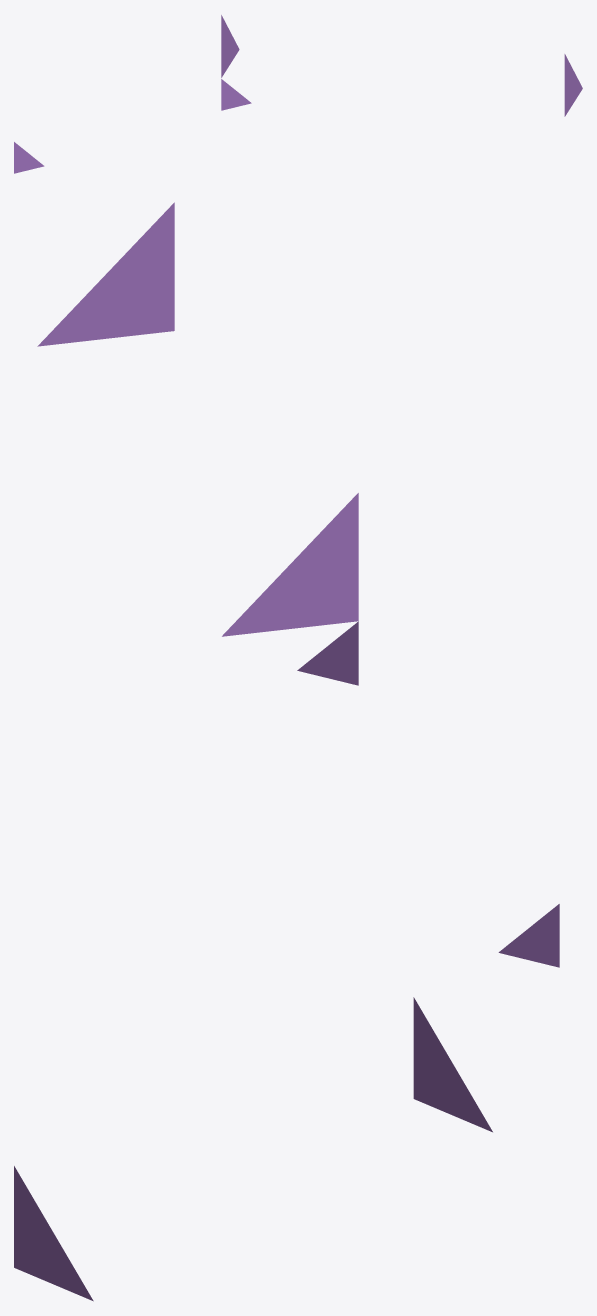
Rendered from hinged_box.gltf.
3 renders of one model, top to bottom at view 1: azimuth 30°, elevation 25°; view 2: azimuth 150°, elevation 25°; view 3: azimuth 270°, elevation 25°, orthographic. The views are drawn at different scales.
Parts seen in each view (by area): view 1: Flap (×2), Lid, Base; view 2: Flap (×2), Lid, Base; view 3: Lid, Flap.
Part boxes in pixels (x1,y1,x2,y2): Flap (×2): (14, 54, 582, 173); Lid: (221, 15, 239, 77); Base: (221, 79, 251, 110); Flap (×2): (37, 202, 559, 967); Lid: (222, 493, 358, 636); Base: (297, 621, 358, 685); Lid: (413, 997, 492, 1132); Flap: (14, 1166, 93, 1301).
Bounding box in the file's own units: 13.49 × 5 × 10.07.
